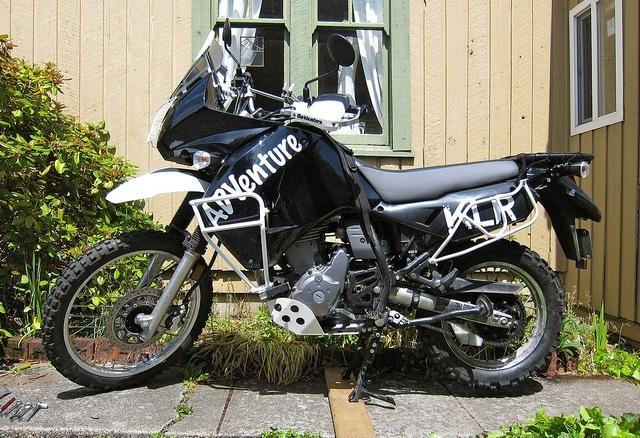motorcycle: (40, 22, 602, 406)
